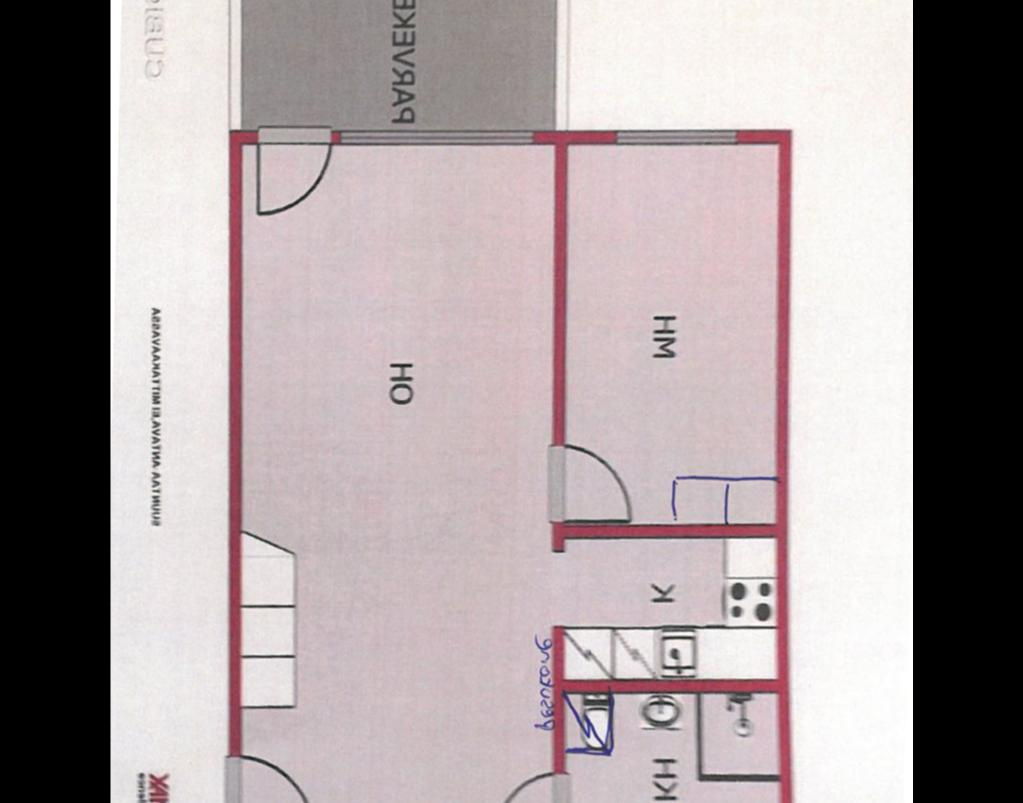bathroom: (558, 690, 780, 803)
door: (253, 125, 333, 220), (549, 440, 635, 526), (222, 752, 319, 803), (493, 770, 572, 803)
perimeter: (228, 126, 794, 803)
window: (332, 126, 539, 148), (608, 125, 746, 148)
